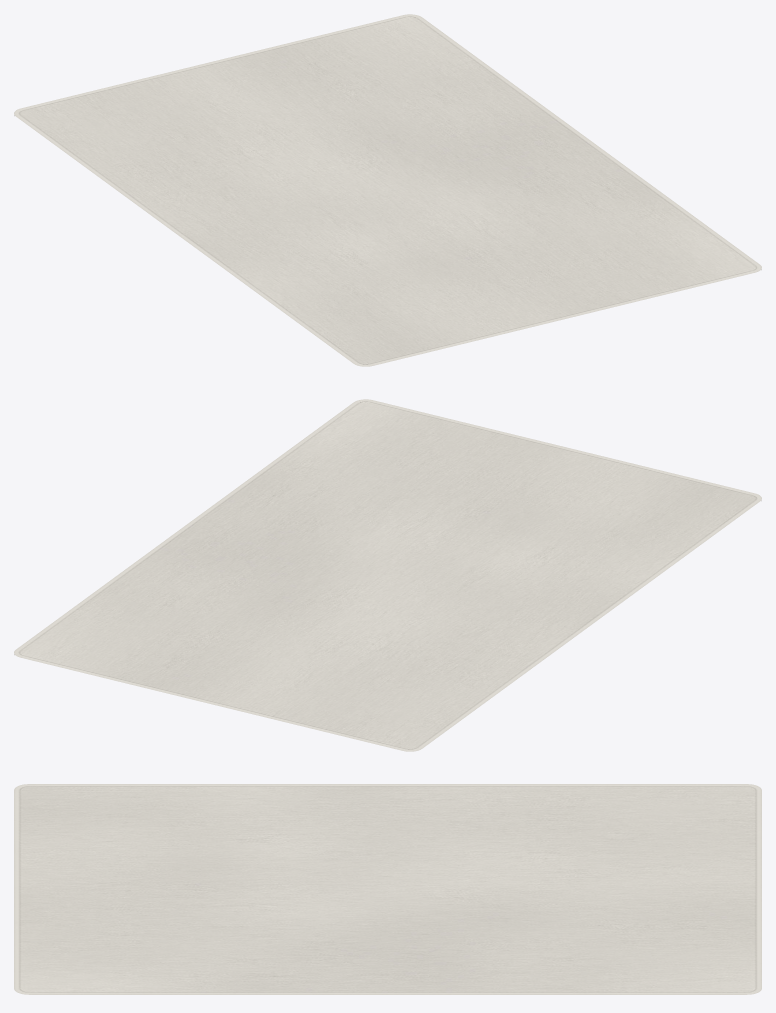
File: ivory_S.glb
The picture shows the model from 3 angles, top to bottom: view 1: azimuth 30°, elevation 25°; view 2: azimuth 150°, elevation 25°; view 3: azimuth 270°, elevation 25°; orthographic projection. The views are drawn at different scales.
Visible parts, largest first — view 1: reliv_ivory_S; view 2: reliv_ivory_S; view 3: reliv_ivory_S.
Boxes of the visible parts, x1,y1,x2,y2 form: reliv_ivory_S: (14,14,761,366); reliv_ivory_S: (14,399,761,751); reliv_ivory_S: (14,784,761,994).
Size of the model in its own units: 1 by 0.009 by 1.5.
2 materials, 1 textured.
